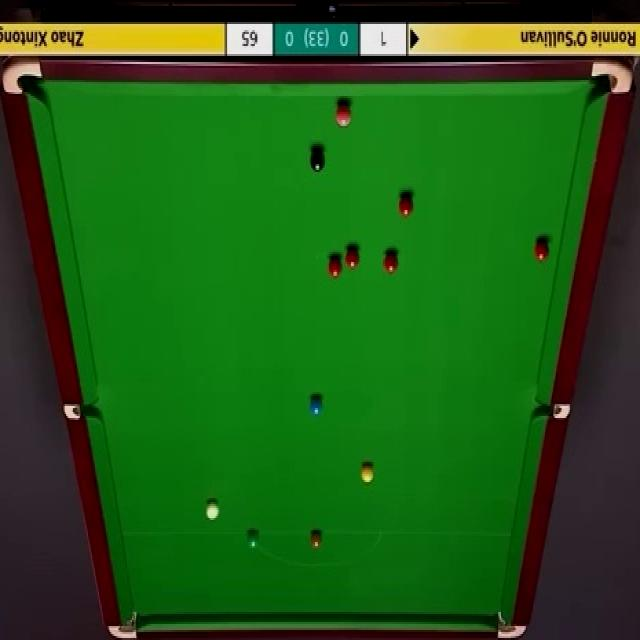pocket: (0, 56, 43, 98), (591, 57, 634, 97), (495, 608, 529, 640), (107, 608, 139, 640), (536, 403, 572, 419), (64, 405, 98, 420)
